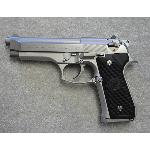Pistol: (5, 32, 138, 124)
